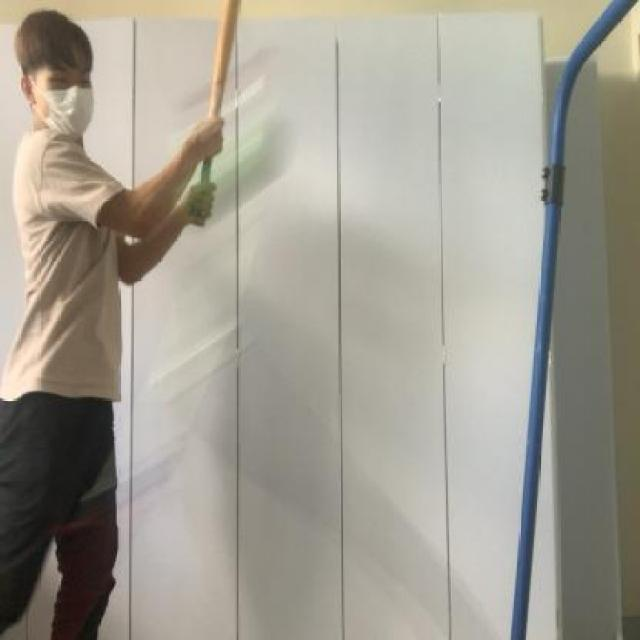baseball: (172, 97, 305, 235)
